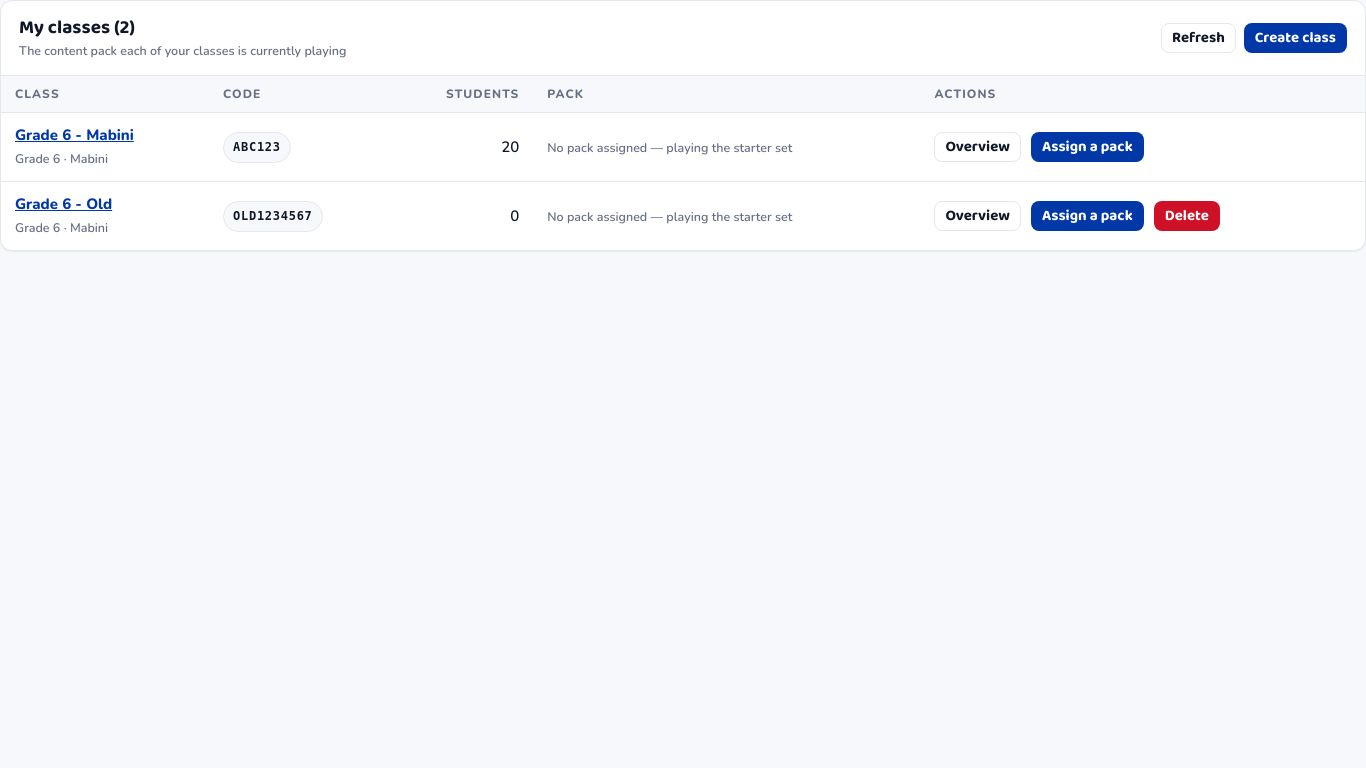
it: deleting a class (Correction 1, N2) › offers Delete only on a class with no students, and deletes it after confirming
The image size is (1366, 768).
Check: the link "Grade 6 - Mabini" is shown, box [15, 125, 134, 145]
Click the button "Delete" at (1187, 216), box [1154, 201, 1220, 231]
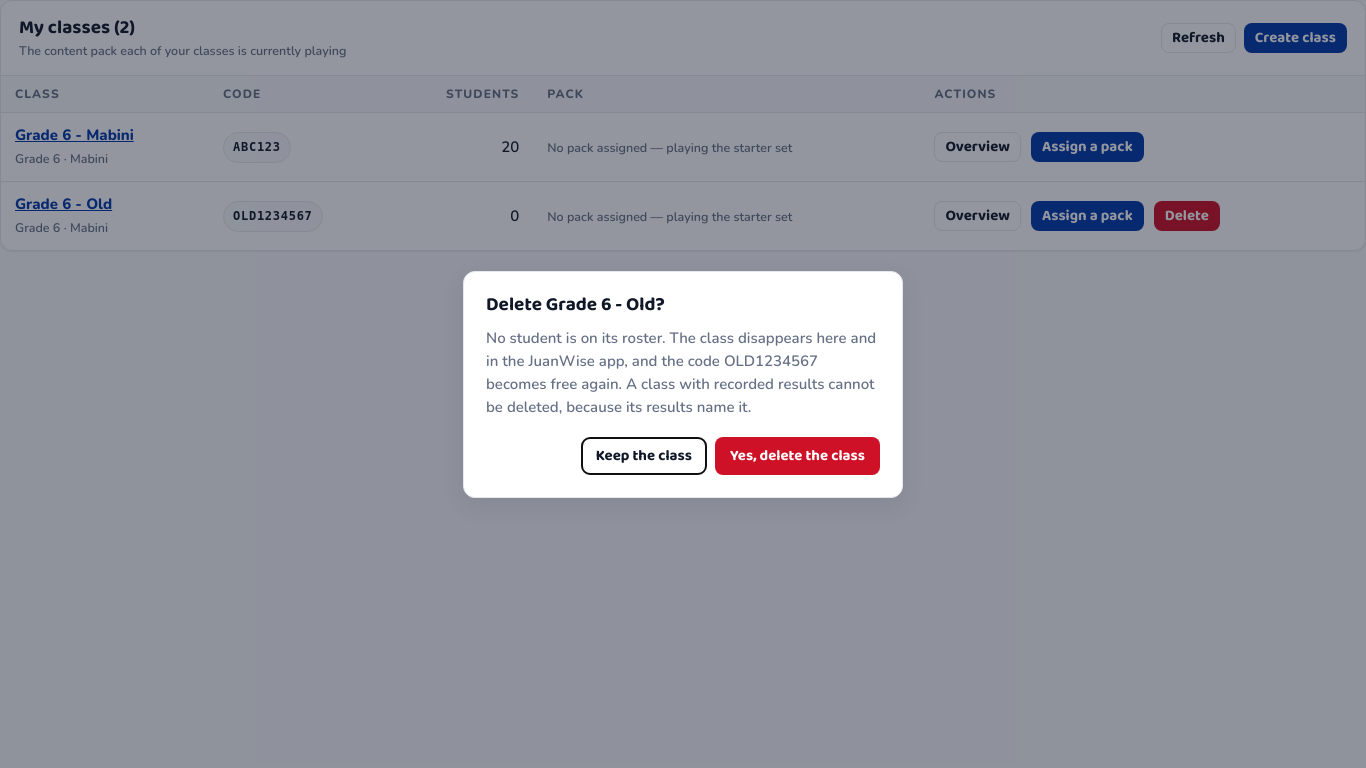
Click the button "Yes, delete the class" at (798, 456), box [715, 436, 880, 474]
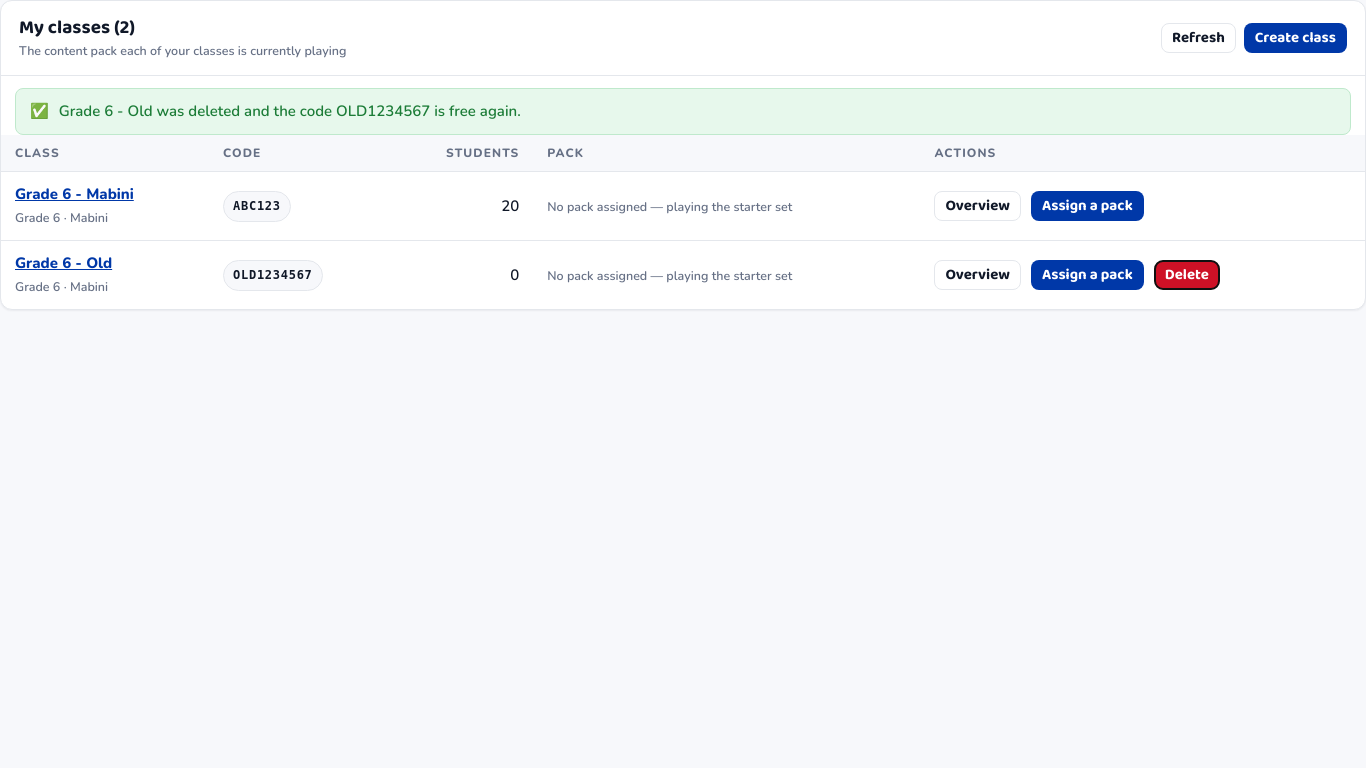
Check: the text "Grade 6 - Old was deleted and the code OLD1234567 is free again" is shown, box [59, 100, 521, 123]
